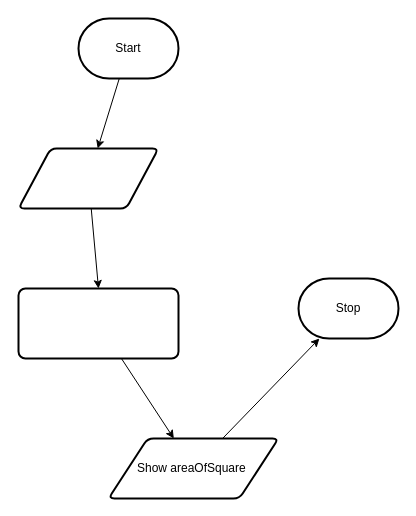
Some shapes in this 416 by 516 pixel diagram are drawn without their labels. Here are the shapes that lost their labels. From the top down, the centre of each, then its label:
At [88,178]: "Get sideLength".
At [98,323]: "areaOfSquare = sideLength * sideLength".
